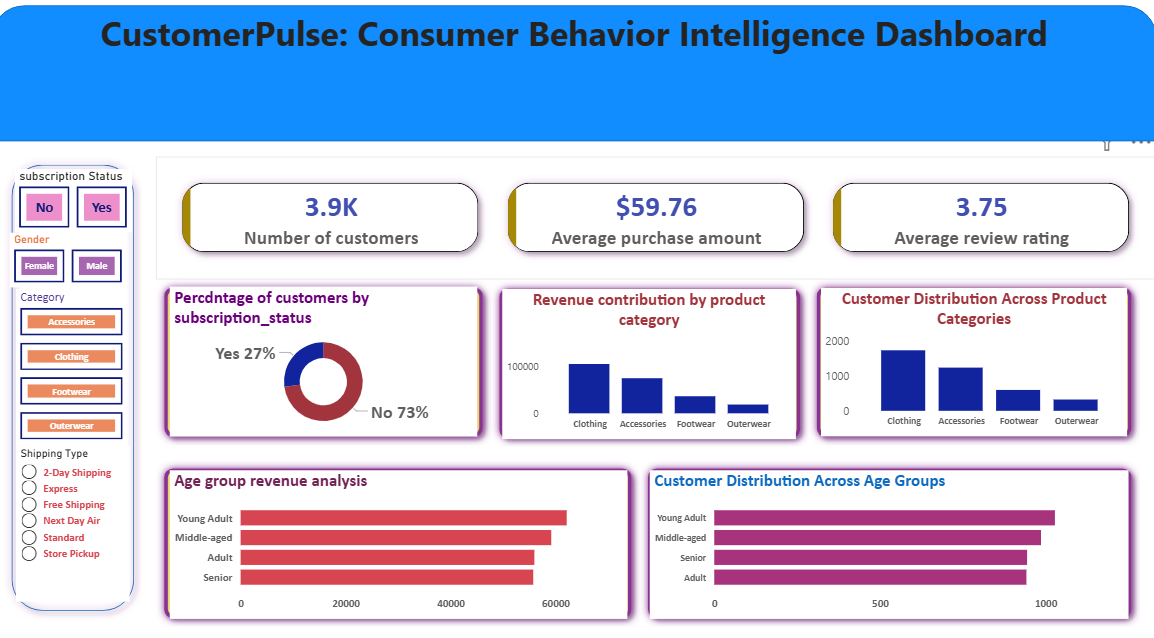

Layout of this report page (visuals, bound fields, positions):
{"tool":"powerbi","page":{"name":"Consumer Behavoir intelligence dashboard","canvas":[1280,720],"ordinal":0},"visuals":[{"type":"cardVisual","fields":{"Data":["public customer1.Number of customers","public customer1.Average purchase amount","public customer1.Average review rating"]},"box":[181.1,189.4,1099.1,134.5],"z":0},{"type":"shape","box":[0,23.3,1280.3,149.6],"z":1000},{"type":"textbox","box":[0,23.3,1280.3,149.6],"z":2000},{"type":"shape","box":[181.1,323.8,367.8,182.5],"z":3000},{"type":"donutChart","title":"Percdntage of customers by subscription_status","fields":{"Category":["public customer1.subscription_status"],"Y":["public customer1.Number of customers"]},"box":[196.2,332.1,337.6,164.7],"z":4000},{"type":"shape","box":[548.9,325.2,348.5,182.5],"z":5000},{"type":"shape","box":[897.4,323.8,363.6,182.5],"z":6000},{"type":"clusteredColumnChart","title":"Revenue contribution by product category","fields":{"Category":["public customer1.category"],"Y":["Sum(public customer1.purchase_amount)"]},"box":[561.2,334.8,322.5,164.7],"z":7000},{"type":"clusteredColumnChart","title":"Customer Distribution Across Product Categories","fields":{"Y":["public customer1.Number of customers"],"Category":["public customer1.category"]},"box":[911.2,333.4,336.2,163.3],"z":8000},{"type":"shape","box":[13.7,189.4,152.3,507.7],"z":9000},{"type":"advancedSlicerVisual","title":"subscription Status","fields":{"Values":["public customer1.subscription_status"]},"box":[26.1,203.1,129,70],"z":10000},{"type":"advancedSlicerVisual","title":"Gender","fields":{"Values":["public customer1.gender"]},"box":[20.6,273.1,129,60.4],"z":11000},{"type":"advancedSlicerVisual","title":"Category","fields":{"Values":["public customer1.category"]},"box":[27.4,334.8,122.1,172.9],"z":12000},{"type":"listSlicer","title":"Shipping Type","fields":{"Values":["public customer1.shipping_type"]},"box":[27.4,507.7,124.9,179.8],"z":13000},{"type":"shape","box":[181.1,522.8,531,182.5],"z":14000},{"type":"shape","box":[712.2,522.8,548.9,182.5],"z":15000},{"type":"clusteredBarChart","title":"Age group revenue analysis","fields":{"Category":["public customer1.age_group"],"Y":["Sum(public customer1.purchase_amount)"]},"box":[196.2,533.8,502.2,163.3],"z":16000},{"type":"clusteredBarChart","title":"Customer Distribution Across Age Groups","fields":{"Y":["public customer1.Number of customers"],"Category":["public customer1.age_group"]},"box":[723.2,533.8,525.6,163.3],"z":17000}]}

Visuals, with their boxes in screenshot pixels (x1, y1, x2, y2), scaled from the page's 1280x720 canvas onto the 1154x638 screenshot:
cardVisual - public customer1.Number of customers x public customer1.Average purchase amount: box(163, 168, 1153, 287)
shape: box(0, 21, 1153, 153)
textbox: box(0, 21, 1153, 153)
shape: box(163, 287, 495, 449)
"Percdntage of customers by subscription_status" donutChart: box(177, 294, 481, 440)
shape: box(495, 288, 809, 450)
shape: box(809, 287, 1137, 449)
"Revenue contribution by product category" clusteredColumnChart: box(506, 297, 797, 443)
"Customer Distribution Across Product Categories" clusteredColumnChart: box(822, 295, 1125, 440)
shape: box(12, 168, 150, 618)
"subscription Status" advancedSlicerVisual: box(24, 180, 140, 242)
"Gender" advancedSlicerVisual: box(19, 242, 135, 296)
"Category" advancedSlicerVisual: box(25, 297, 135, 450)
"Shipping Type" listSlicer: box(25, 450, 137, 609)
shape: box(163, 463, 642, 625)
shape: box(642, 463, 1137, 625)
"Age group revenue analysis" clusteredBarChart: box(177, 473, 630, 618)
"Customer Distribution Across Age Groups" clusteredBarChart: box(652, 473, 1126, 618)
